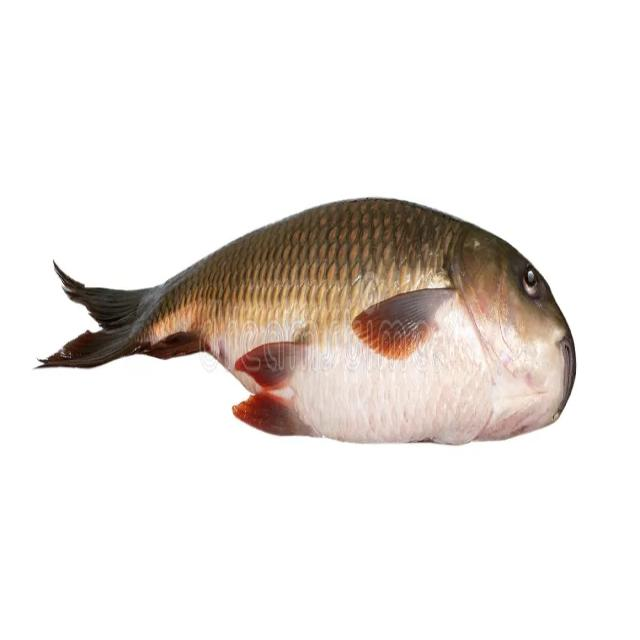Rohu: (39, 195, 576, 446)
